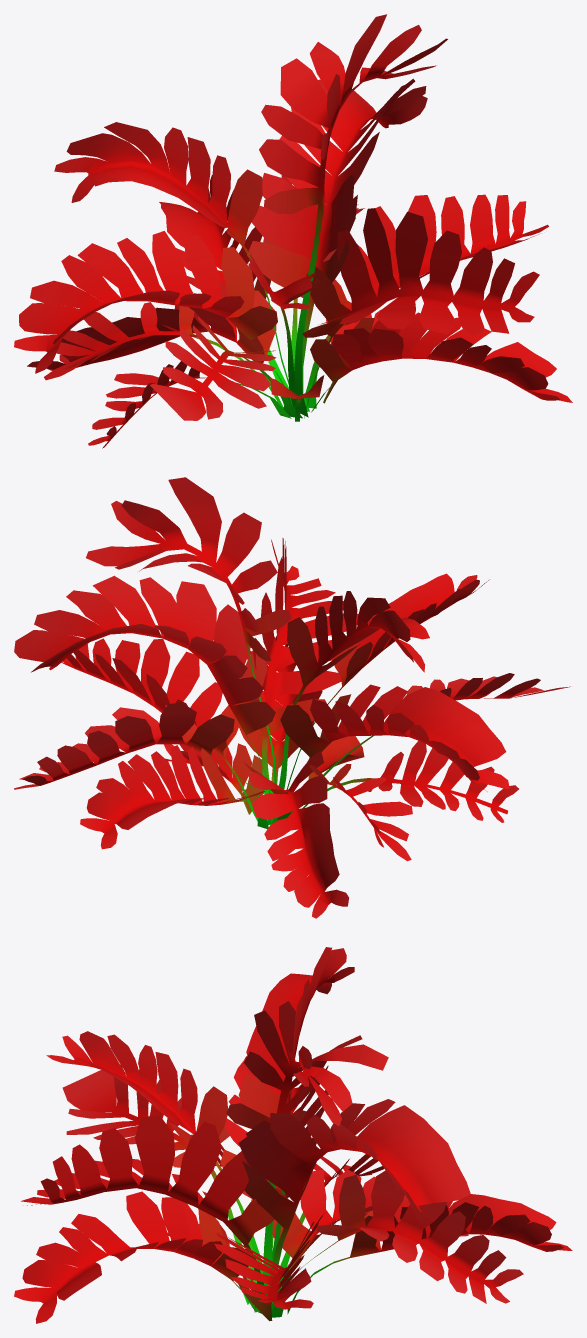
File: Var2_LOD0.fbx
3 renders of one model, top to bottom at view 1: azimuth 30°, elevation 25°; view 2: azimuth 150°, elevation 25°; view 3: azimuth 270°, elevation 25°, orthographic. The views are drawn at different scales.
Visible parts, largest first — view 1: _4c51_Var2_LOD0; view 2: _4c51_Var2_LOD0; view 3: _4c51_Var2_LOD0.
Part boxes in pixels (<box>): _4c51_Var2_LOD0: <box>14,14,572,448</box>; _4c51_Var2_LOD0: <box>14,477,570,918</box>; _4c51_Var2_LOD0: <box>14,947,572,1323</box>.
Size of the model in its own units: 143 by 99.43 by 142.
